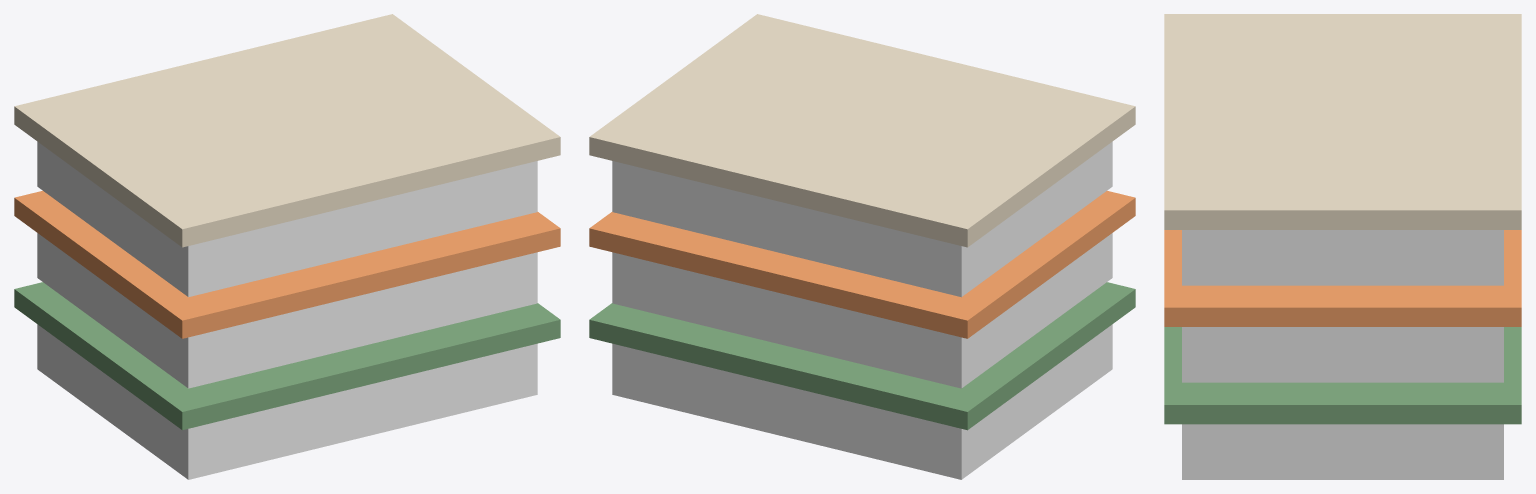
3 views of the same model, side by side, from view 1: azimuth 30°, elevation 25°; view 2: azimuth 150°, elevation 25°; view 3: azimuth 270°, elevation 25° (orthographic). The views are drawn at different scales.
Parts seen in each view (by area): view 1: Pages; view 2: Pages; view 3: Pages.
Boxes of the visible parts, bbox=[...] form: Pages: bbox=[14, 14, 560, 479]; Pages: bbox=[589, 14, 1135, 479]; Pages: bbox=[1164, 14, 1521, 479].
Size of the model in its own units: 0.26 by 0.171 by 0.2.
Materials: 1 (1 with a texture image).
